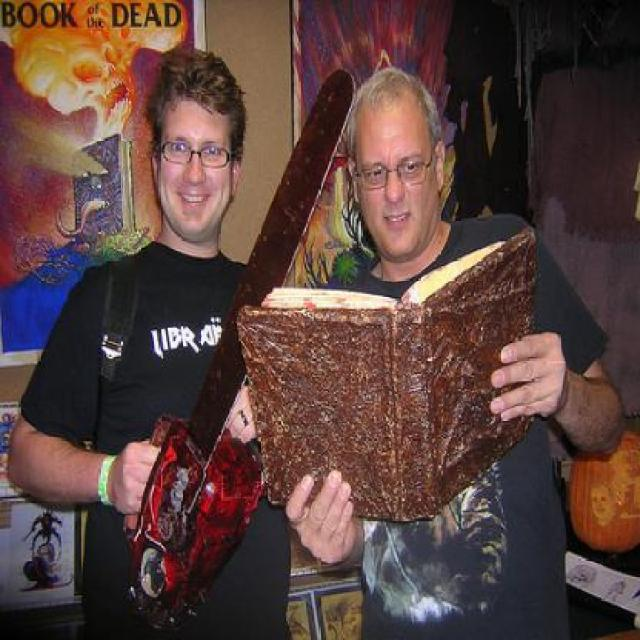Chainsaw: (115, 66, 358, 625)
